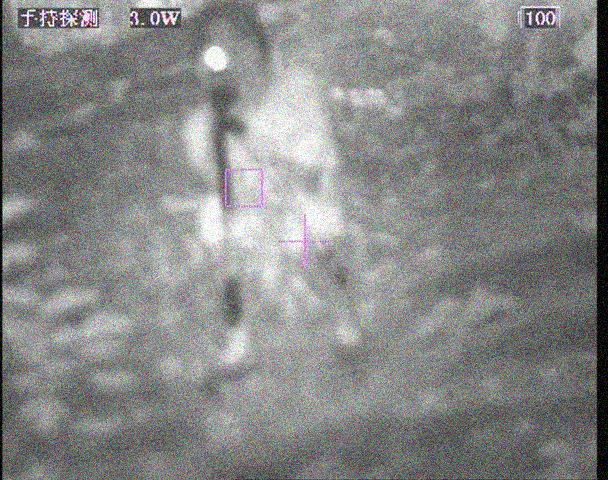my: (202, 45, 228, 72)
